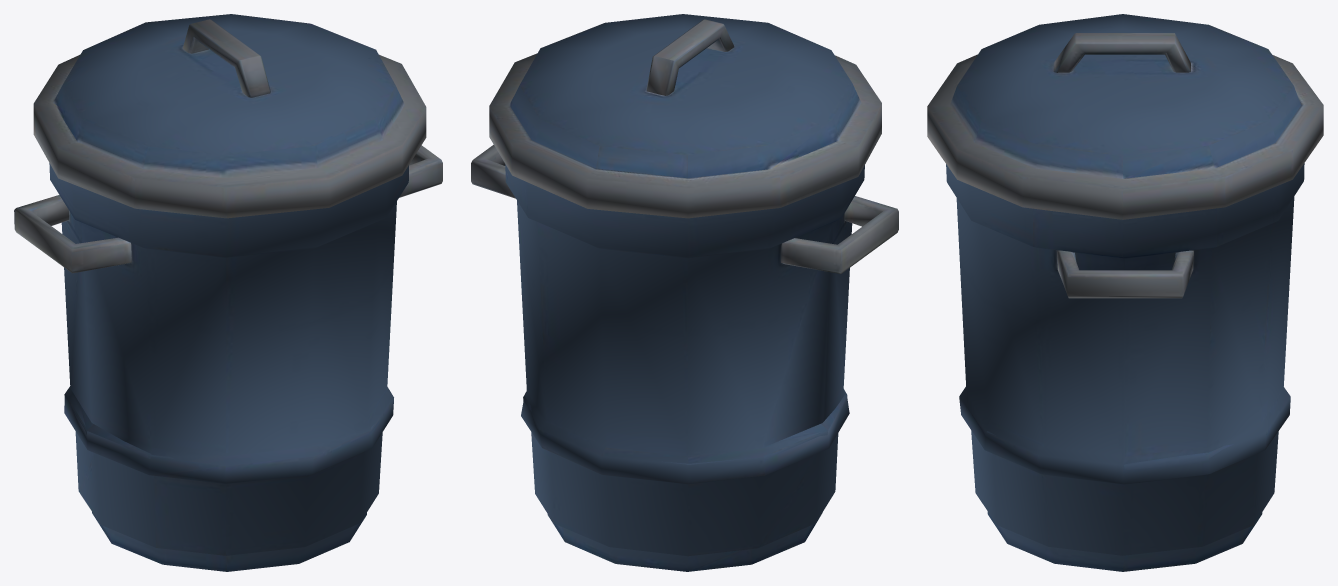
File: blue trash can 3d model.glb
The picture shows the model from 3 angles, left to right: view 1: azimuth 30°, elevation 25°; view 2: azimuth 150°, elevation 25°; view 3: azimuth 270°, elevation 25°; orthographic projection.
Parts seen in each view (by area): view 1: tripo_node_48efd371-57fa-4633-950d-c1e022271061; view 2: tripo_node_48efd371-57fa-4633-950d-c1e022271061; view 3: tripo_node_48efd371-57fa-4633-950d-c1e022271061.
Boxes of the visible parts, x1,y1,x2,y2 form: tripo_node_48efd371-57fa-4633-950d-c1e022271061: (14, 14, 442, 571); tripo_node_48efd371-57fa-4633-950d-c1e022271061: (471, 14, 898, 571); tripo_node_48efd371-57fa-4633-950d-c1e022271061: (927, 14, 1323, 571).
Bounding box in the file's own units: 0.8145 × 0.998 × 0.7559.
1 material, 1 textured.
